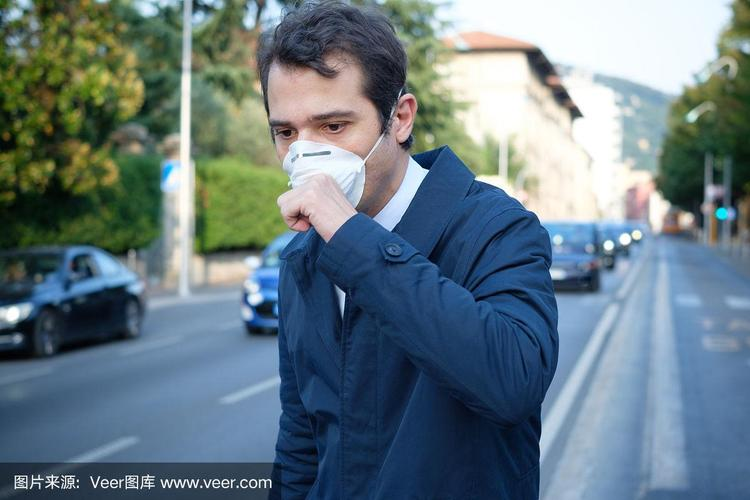mask: (264, 35, 401, 219)
